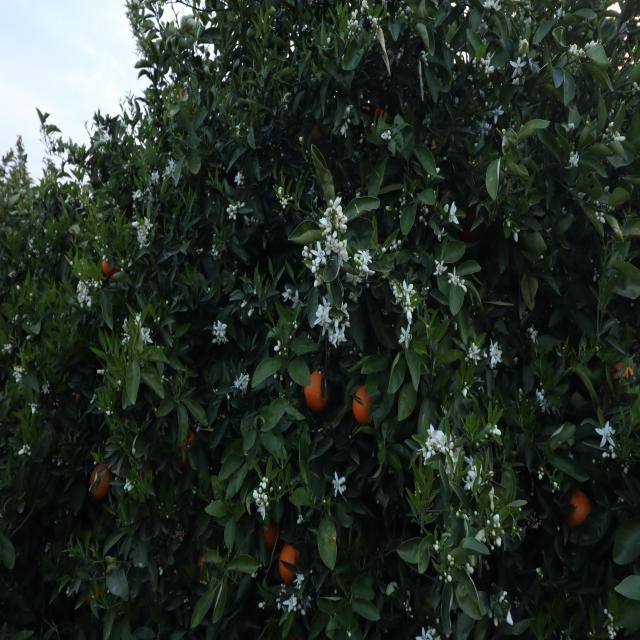Bunga: (596, 420, 616, 450), (311, 240, 327, 266), (314, 304, 332, 326), (400, 322, 412, 350), (510, 57, 526, 78), (564, 151, 580, 171), (332, 472, 344, 498), (399, 280, 413, 302), (332, 327, 348, 346), (339, 239, 349, 267), (434, 258, 447, 278), (476, 116, 489, 136), (283, 594, 297, 612), (490, 343, 502, 364), (436, 434, 449, 452), (346, 272, 362, 286), (358, 248, 372, 264), (480, 52, 494, 68), (518, 36, 528, 58), (528, 324, 539, 344), (141, 328, 153, 346), (214, 320, 226, 338), (492, 105, 504, 123), (470, 466, 482, 484), (340, 300, 350, 321), (416, 626, 431, 640), (434, 226, 447, 242), (450, 201, 459, 224), (79, 287, 91, 304), (290, 290, 300, 310), (328, 328, 338, 348), (426, 438, 437, 456), (484, 0, 502, 11), (320, 322, 334, 336), (326, 238, 338, 254), (319, 218, 332, 232), (448, 266, 458, 284), (462, 477, 474, 492), (472, 346, 482, 364), (538, 399, 550, 414), (548, 402, 560, 417), (256, 503, 266, 520), (420, 50, 430, 66), (333, 196, 343, 211), (370, 15, 380, 30), (406, 306, 414, 324), (144, 216, 154, 230), (320, 296, 330, 310), (337, 210, 347, 224), (294, 574, 304, 588), (343, 105, 353, 119), (478, 21, 488, 35), (240, 379, 248, 396), (444, 458, 452, 475), (361, 271, 376, 280), (584, 39, 596, 50), (12, 367, 22, 380), (282, 286, 290, 302), (168, 157, 176, 173), (569, 43, 578, 57), (138, 240, 150, 250), (121, 332, 129, 347), (210, 252, 222, 262), (230, 376, 240, 388), (492, 424, 502, 436), (422, 447, 431, 460), (536, 388, 545, 401), (134, 311, 142, 325), (121, 316, 128, 332), (124, 478, 132, 492), (340, 124, 348, 138), (427, 424, 435, 438), (494, 514, 502, 528), (512, 228, 520, 242), (608, 626, 616, 640), (381, 130, 391, 141), (482, 125, 492, 136), (76, 281, 85, 293), (166, 167, 174, 180), (486, 65, 494, 78), (608, 445, 616, 458), (449, 441, 455, 458), (464, 456, 474, 466), (616, 134, 626, 144), (262, 493, 269, 507), (506, 611, 513, 625), (138, 230, 146, 242), (342, 317, 350, 329), (260, 477, 268, 489), (306, 596, 314, 608), (360, 0, 368, 12), (500, 591, 508, 603), (566, 122, 574, 134), (234, 172, 241, 185), (324, 208, 331, 221), (447, 554, 455, 565), (152, 170, 158, 184), (302, 246, 309, 258), (314, 276, 321, 288), (132, 190, 140, 200), (132, 220, 140, 230), (18, 445, 26, 455), (218, 337, 228, 345), (354, 256, 362, 266), (340, 224, 348, 234), (298, 606, 306, 616), (459, 283, 467, 293), (434, 430, 442, 440), (466, 564, 474, 574), (552, 481, 560, 491), (274, 339, 280, 352), (253, 490, 259, 503), (634, 82, 640, 95), (226, 204, 234, 213), (332, 206, 340, 215), (393, 286, 399, 298), (352, 8, 358, 20), (463, 386, 469, 398), (42, 380, 49, 390), (362, 264, 369, 274), (334, 214, 339, 228), (433, 541, 440, 551), (41, 388, 49, 396), (258, 602, 266, 610), (398, 198, 406, 206), (28, 402, 38, 408), (248, 306, 254, 316), (244, 215, 250, 225), (158, 566, 164, 576), (392, 238, 398, 248), (297, 514, 303, 524), (496, 536, 502, 546), (467, 348, 473, 358), (228, 213, 236, 220), (240, 300, 247, 308), (342, 478, 346, 492), (292, 320, 298, 329), (7, 344, 12, 354), (444, 203, 449, 213), (137, 191, 144, 198), (90, 396, 96, 404), (322, 228, 328, 236), (332, 231, 338, 239), (326, 234, 332, 242), (356, 264, 362, 271), (419, 216, 425, 223), (608, 121, 614, 128), (94, 280, 99, 288), (278, 187, 282, 197), (241, 373, 246, 381), (238, 380, 242, 390), (96, 370, 105, 374), (240, 202, 246, 208), (25, 450, 31, 456), (280, 197, 284, 206), (312, 265, 316, 274), (366, 280, 370, 289), (406, 5, 410, 14), (445, 42, 450, 49), (32, 406, 36, 414), (284, 198, 288, 206), (246, 373, 250, 381), (398, 239, 402, 247), (472, 342, 476, 350), (401, 10, 405, 18), (212, 338, 217, 344), (381, 247, 386, 253), (234, 205, 238, 212), (308, 253, 312, 260), (16, 377, 21, 382), (26, 335, 31, 340), (237, 200, 240, 208), (102, 254, 106, 260), (80, 302, 84, 308), (26, 444, 30, 450), (4, 344, 8, 350), (16, 285, 20, 291), (197, 248, 200, 256), (330, 199, 333, 207), (15, 314, 18, 321), (212, 245, 215, 252), (101, 248, 105, 253), (70, 261, 74, 266), (288, 195, 292, 200), (278, 351, 282, 356), (118, 380, 121, 386), (88, 301, 91, 307), (78, 272, 82, 276), (94, 394, 98, 398), (227, 395, 230, 400), (105, 258, 108, 262), (100, 280, 102, 286), (200, 248, 203, 252), (283, 205, 286, 209), (254, 290, 256, 294), (216, 388, 218, 392), (290, 336, 292, 340), (212, 390, 215, 392), (284, 348, 286, 350)
Jeruk Sudah Matang: (604, 360, 634, 392), (305, 372, 328, 412), (566, 490, 591, 525), (278, 544, 300, 583), (89, 464, 111, 500), (354, 386, 374, 424), (178, 433, 195, 463), (200, 554, 214, 580), (102, 260, 119, 277)
